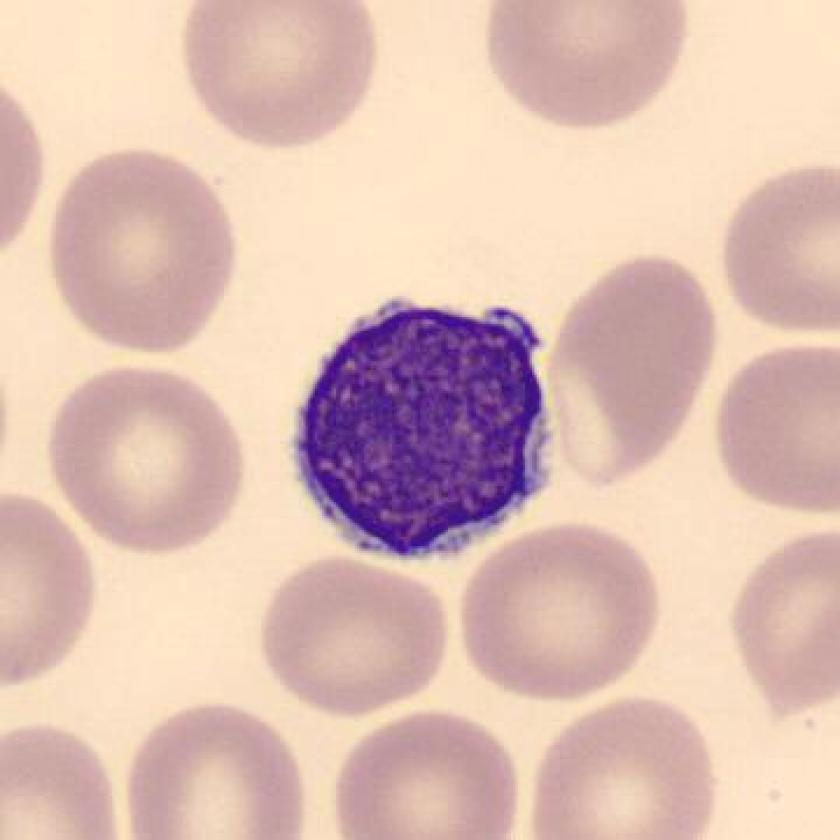lymphocyte: (279, 277, 561, 594)
